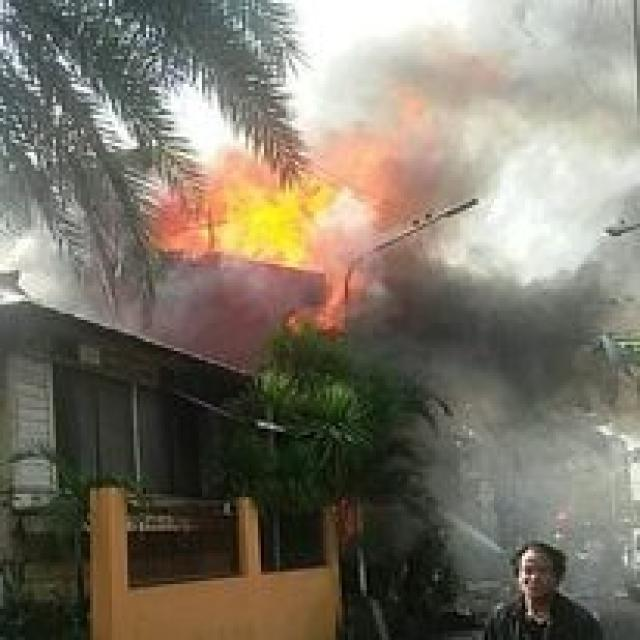Fire: (215, 178, 338, 260)
Smoke: (372, 5, 638, 186), (383, 276, 623, 428), (158, 240, 292, 350)
